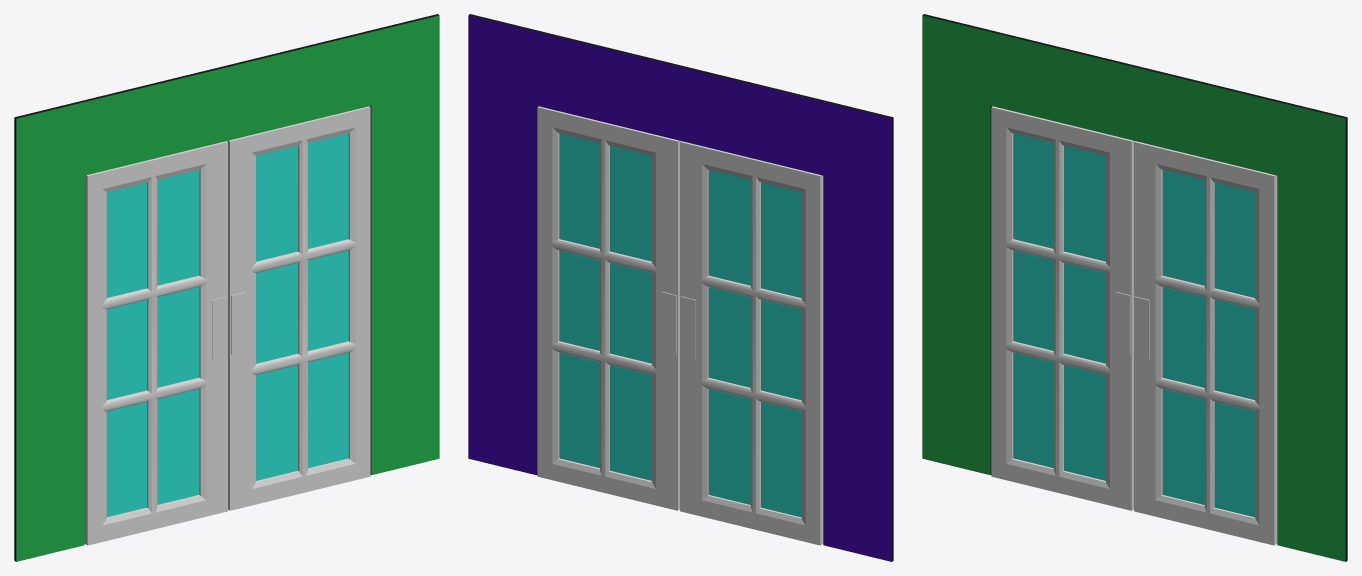
File: Wall with Double Door.FBX
3 views of the same model, side by side, from view 1: azimuth 30°, elevation 25°; view 2: azimuth 150°, elevation 25°; view 3: azimuth 330°, elevation 25° (orthographic).
Visible parts, largest first — view 1: Box004, Box012, Box007, Plane003, Plane001, Box008, Box013; view 2: Box004, Box012, Box007, Plane003, Plane001, Box008, Box013; view 3: Box004, Box007, Box012, Plane001, Plane003, Box013, Box008.
Boxes of the visible parts, bbox=[...] form: Box004: bbox=[14, 14, 439, 561]; Box012: bbox=[84, 141, 227, 545]; Box007: bbox=[227, 106, 370, 510]; Plane003: bbox=[106, 170, 199, 517]; Plane001: bbox=[256, 133, 348, 480]; Box008: bbox=[231, 291, 246, 354]; Box013: bbox=[212, 296, 227, 359]; Box004: bbox=[468, 14, 893, 561]; Box012: bbox=[680, 141, 823, 545]; Box007: bbox=[537, 106, 680, 510]; Plane003: bbox=[708, 170, 801, 517]; Plane001: bbox=[559, 133, 651, 480]; Box008: bbox=[661, 292, 676, 354]; Box013: bbox=[680, 296, 695, 359]; Box004: bbox=[922, 14, 1347, 561]; Box007: bbox=[1134, 141, 1277, 545]; Box012: bbox=[991, 106, 1134, 510]; Plane001: bbox=[1162, 170, 1255, 517]; Plane003: bbox=[1013, 133, 1105, 480]; Box013: bbox=[1115, 292, 1130, 354]; Box008: bbox=[1134, 296, 1149, 359].
Bounding box in the file's own units: 2.44 × 2.44 × 0.0525.
